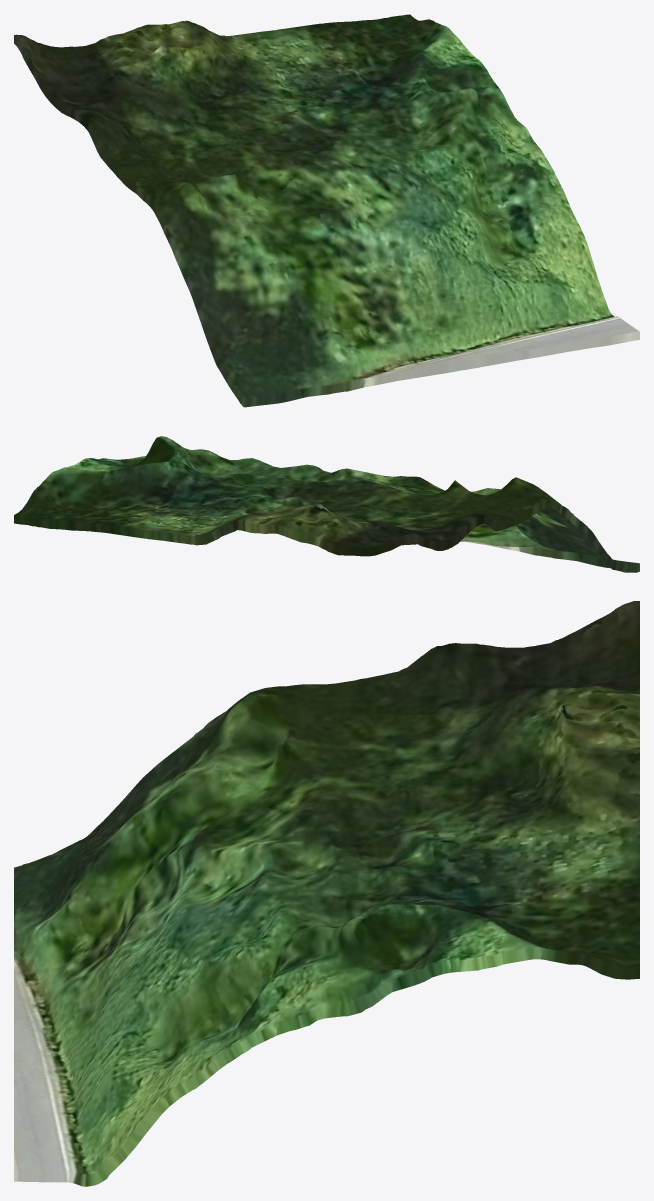
File: z20-167564-405175-h0-yup-uvflip-v3-world.glb
The picture shows the model from 3 angles, top to bottom: view 1: azimuth 30°, elevation 25°; view 2: azimuth 150°, elevation 25°; view 3: azimuth 270°, elevation 25°; orthographic projection. The views are drawn at different scales.
Bounding box in the file's own units: 30.16 × 17.24 × 30.32.
Materials: 1 (1 with a texture image).
